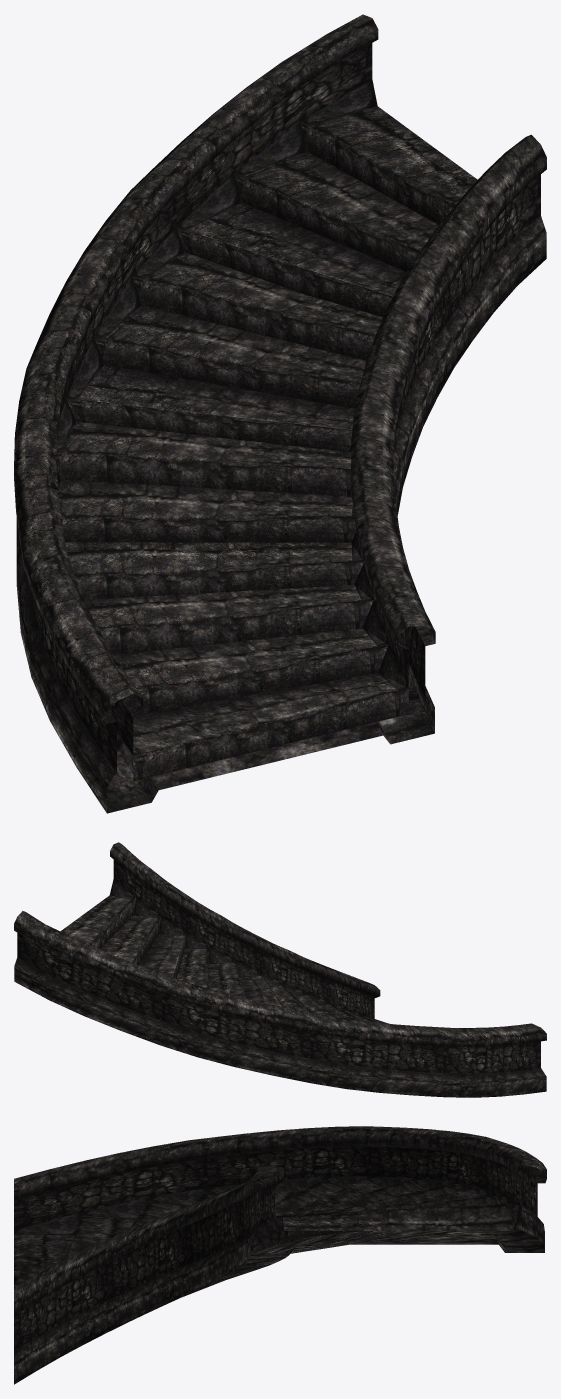
File: stairs_spiral_grey.dae
The picture shows the model from 3 angles, top to bottom: view 1: azimuth 30°, elevation 25°; view 2: azimuth 150°, elevation 25°; view 3: azimuth 270°, elevation 25°; orthographic projection. The views are drawn at different scales.
Visible parts, largest first — view 1: spiral_stairs; view 2: spiral_stairs; view 3: spiral_stairs.
Boxes of the visible parts, x1,y1,x2,y2 form: spiral_stairs: (14, 14, 546, 813); spiral_stairs: (14, 842, 546, 1097); spiral_stairs: (14, 1126, 546, 1384).
Size of what is drawn, in the model's own units: 8.31 by 5.52 by 8.33.
